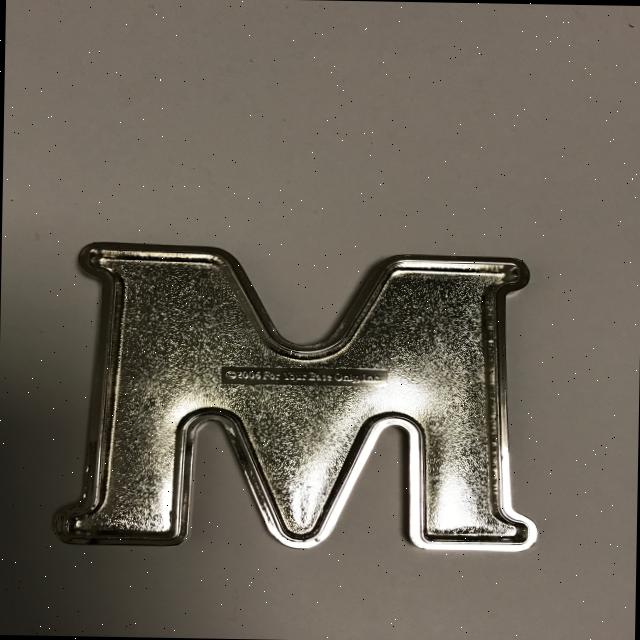metal: (52, 238, 543, 554)
